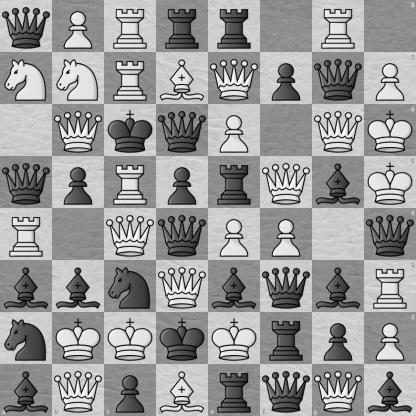B: (156, 364, 209, 416), (157, 53, 208, 104)
K: (364, 156, 416, 209), (364, 104, 416, 156), (53, 313, 104, 364), (105, 313, 156, 364), (209, 313, 260, 364)
N: (1, 53, 52, 104), (53, 53, 104, 104)
P: (364, 52, 416, 104), (364, 312, 416, 364), (53, 1, 104, 52), (209, 105, 260, 156), (209, 209, 260, 260), (261, 209, 312, 260)
Q: (52, 364, 104, 416), (312, 364, 364, 416), (53, 105, 104, 156), (105, 209, 156, 260), (157, 261, 208, 312), (209, 53, 260, 104), (261, 157, 312, 208), (313, 105, 364, 156)
R: (364, 260, 416, 312), (1, 209, 52, 260), (105, 1, 156, 52), (105, 53, 156, 104), (105, 157, 156, 208), (313, 1, 364, 52)
b: (0, 364, 52, 416), (364, 364, 416, 416), (1, 261, 52, 312), (53, 261, 104, 312), (209, 261, 260, 312), (313, 157, 364, 208), (313, 261, 364, 312)
board: (0, 0, 415, 415)
k: (105, 105, 156, 156), (157, 313, 208, 364)
n: (1, 313, 52, 364), (105, 261, 156, 312)
p: (104, 364, 156, 416), (53, 157, 104, 208), (157, 157, 208, 208), (261, 53, 312, 104), (313, 313, 364, 364)
q: (260, 364, 312, 416), (364, 209, 416, 260), (1, 1, 52, 52), (1, 157, 52, 208), (157, 105, 208, 156), (157, 209, 208, 260), (261, 261, 312, 312), (313, 53, 364, 104)
r: (209, 364, 260, 416), (157, 1, 208, 52), (209, 1, 260, 52), (209, 157, 260, 208), (261, 313, 312, 364)
